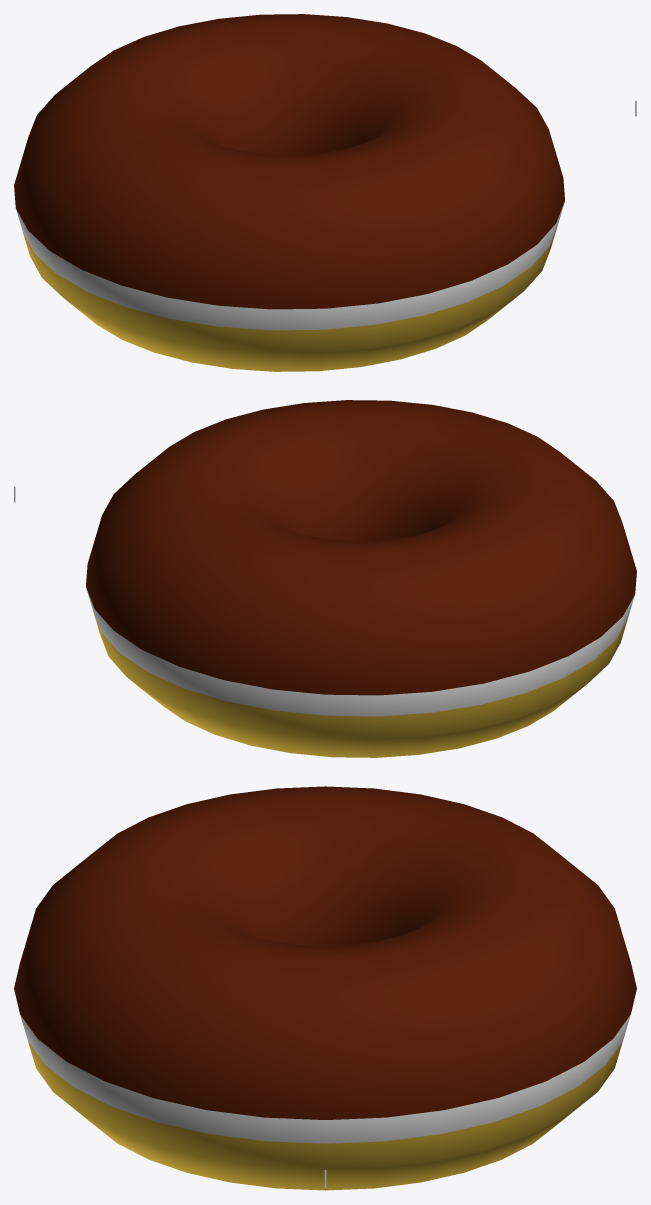
File: Donut_LP_2.fbx
3 views of the same model, one above another, from view 1: azimuth 30°, elevation 25°; view 2: azimuth 150°, elevation 25°; view 3: azimuth 270°, elevation 25° (orthographic). The views are drawn at different scales.
Parts seen in each view (by area): view 1: Donut; view 2: Donut; view 3: Donut.
Boxes of the visible parts, x1,y1,x2,y2 form: Donut: (14, 14, 564, 371); Donut: (86, 400, 636, 757); Donut: (14, 786, 636, 1190).
Size of the model in its own units: 80.93 by 26 by 66.
